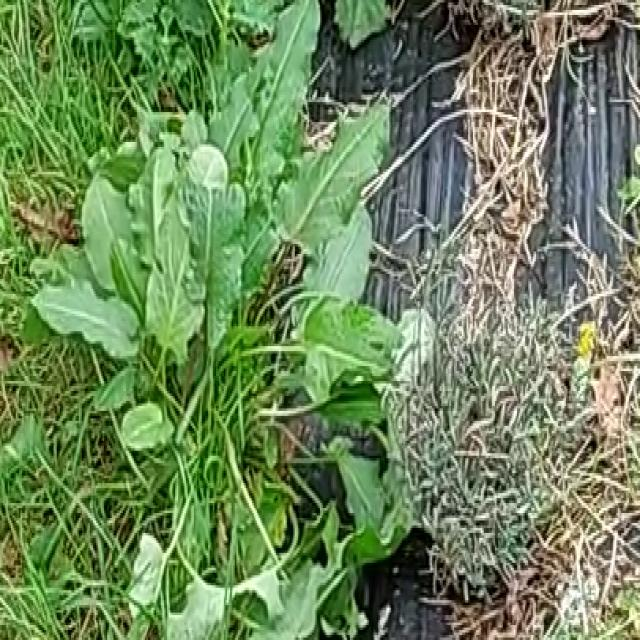organic waste: (78, 10, 422, 588)
